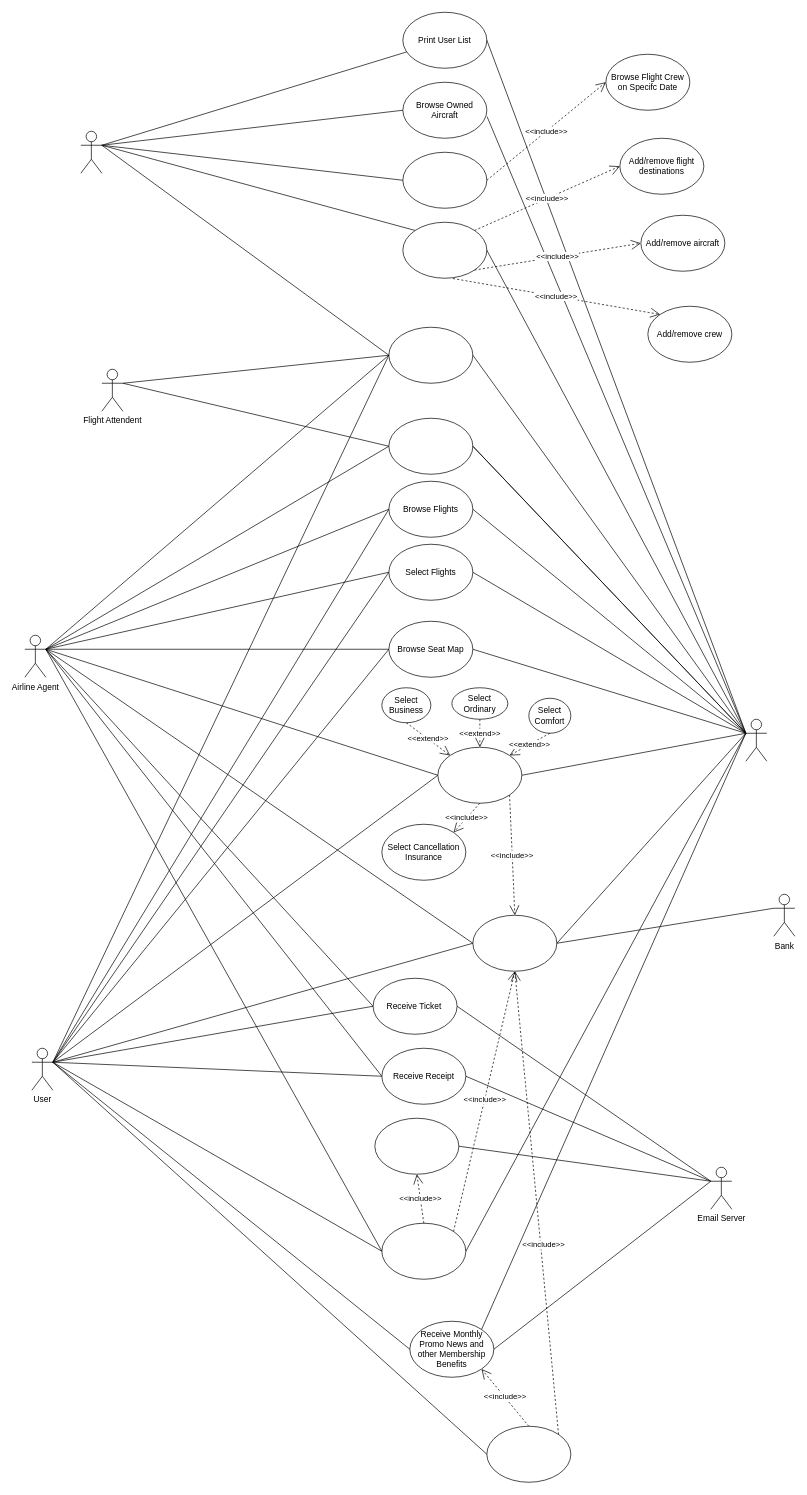
The diagram is 807 pixels wide and 1495 high, and some of its shapes have lost their labels. The shapes that lost their labels are listed below. From the top down, each one's centre as x and y in pixels, then its label:
pixel 91 152: System Administrator
pixel 444 180: Browse Flight List on Specifc Date
pixel 444 250: Add/remove/modify flight information
pixel 430 355: Login
pixel 430 446: Browse List of Passengers
pixel 756 740: Database
pixel 479 775: Select Seat
pixel 514 943: Make Payment
pixel 416 1146: Send Cancellation Email
pixel 423 1251: Cancel Flight
pixel 528 1454: Register for membership
